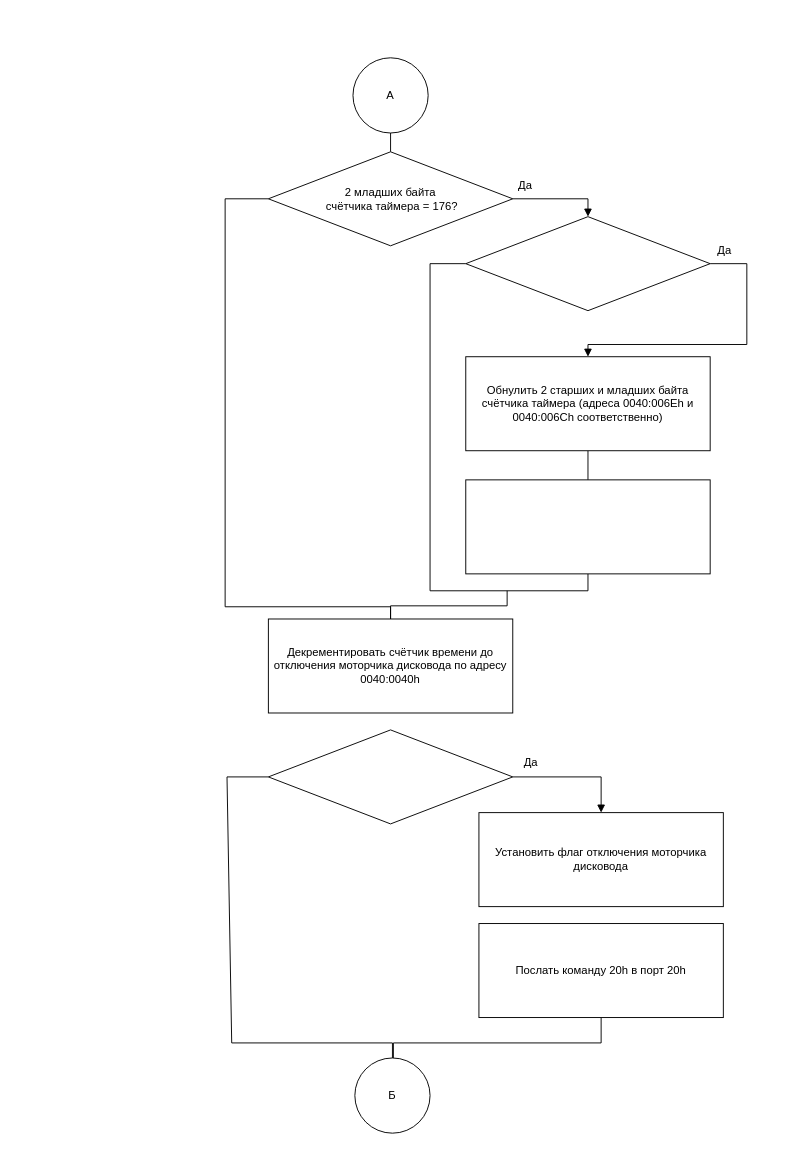
The diagram is 803 pixels wide and 1150 high, and some of its shapes have lost their labels. Here are the shapes that lost their labels. From the top down, the centre of each, then its label:
At [587,263]: "2 старших байта счётчика таймера = 24?".
At [587,526]: "Установить значение 1 по адресу 0040:0070h".
At [390,776]: "Счётчик времени до отключения моторчика дисковода по адресу 0040:0040h = 0?".
